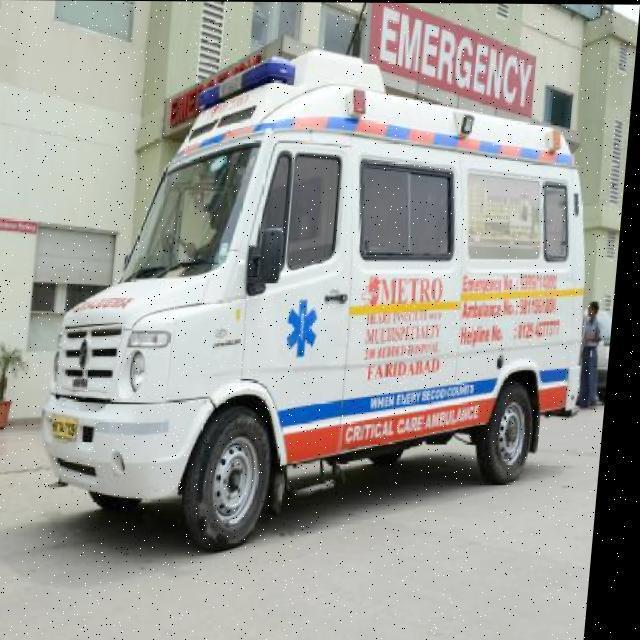Ambulance: (34, 43, 616, 554), (0, 383, 611, 640), (578, 298, 618, 412), (594, 304, 618, 406), (0, 272, 1, 436)
